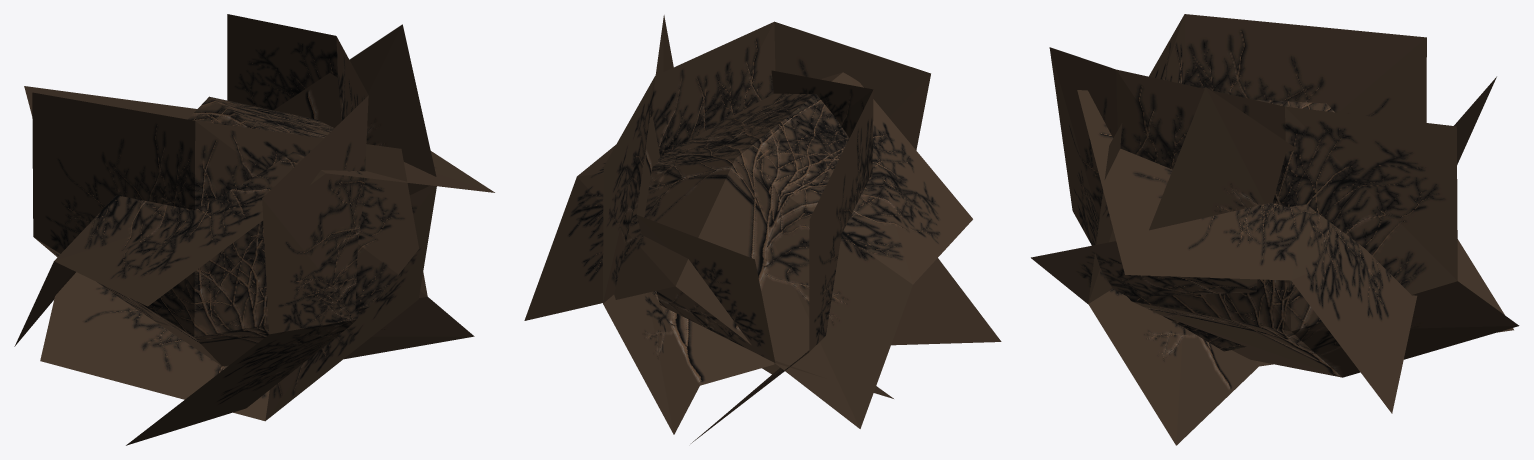
The model's file is tumbleweed_lod.dae.
3 renders of one model, left to right at view 1: azimuth 30°, elevation 25°; view 2: azimuth 150°, elevation 25°; view 3: azimuth 270°, elevation 25°, orthographic. The views are drawn at different scales.
Parts seen in each view (by area): view 1: Mesh_Object; view 2: Mesh_Object; view 3: Mesh_Object.
Part boxes in pixels (x1=…): Mesh_Object: x1=14, y1=14, x2=494, y2=445; Mesh_Object: x1=524, y1=15, x2=1001, y2=443; Mesh_Object: x1=1031, y1=14, x2=1519, y2=445.
Bounding box in the file's own units: 0.5257 × 0.4485 × 0.5556.
